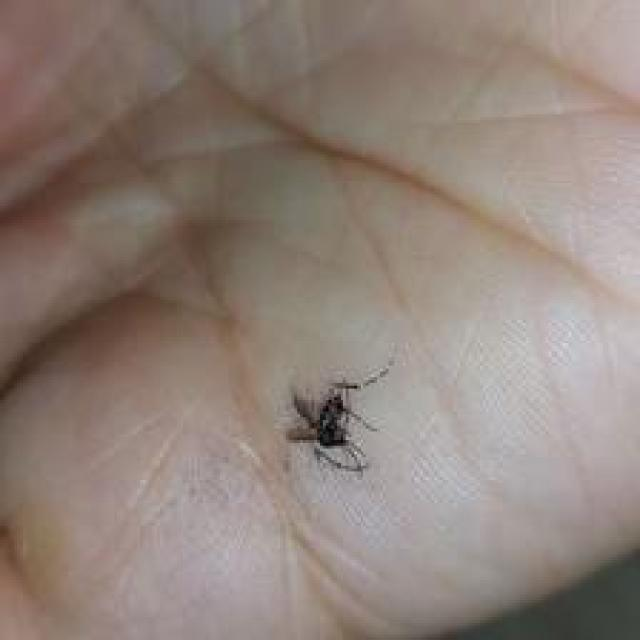Aedes albopictus: (283, 354, 394, 477)
